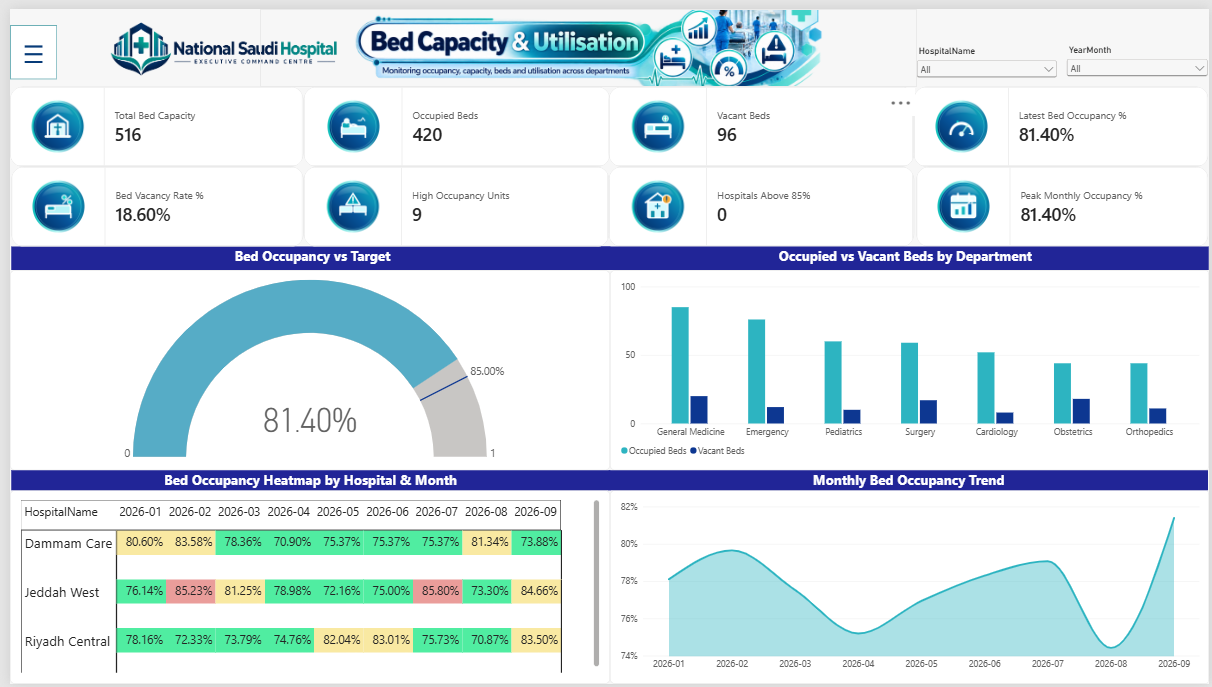

This screenshot's page, from the dashboard's own definition file:
{"tool":"powerbi","page":{"name":"Bed Capacity & Utilisatione","canvas":[1920,1080],"ordinal":3},"visuals":[{"type":"cardVisual","fields":{"Data":["tblBedCensus.Occupied Beds"]},"box":[469.8,123.1,490.3,128.6],"z":0},{"type":"cardVisual","fields":{"Data":["tblBedCensus.Vacant Beds"]},"box":[958.3,123.1,488.5,128.6],"z":1000},{"type":"cardVisual","fields":{"Data":["tblBedCensus.Hospitals Above 85%"]},"box":[958.3,251.7,488.5,128.6],"z":2000},{"type":"cardVisual","fields":{"Data":["tblBedCensus.Peak Monthly Occupancy %"]},"box":[1450.5,251.7,468,128.6],"z":3000},{"type":"cardVisual","fields":{"Data":["tblBedCensus.Latest Bed Occupancy %"]},"box":[1446.8,123.1,471.7,128.6],"z":4000},{"type":"cardVisual","title":"Monthly Patient Visits","fields":{"Data":["tblBedCensus.Total Bed Capacity"]},"box":[0,123.1,469.8,128.6],"z":5000},{"type":"image","box":[142.9,0,400,128],"z":6000},{"type":"slicer","fields":{"Values":["tblHospitals.HospitalName"]},"box":[1446.7,57.7,233.4,106.8],"z":7000},{"type":"slicer","fields":{"Values":["DimDate.YearMonth"]},"box":[1685,55.9,235.3,86.9],"z":8000},{"type":"gauge","fields":{"MaxValue":["tblBedCensus.Gauge Maximum"],"MinValue":["tblBedCensus.Gauge Minimum"],"TargetValue":["tblBedCensus.Bed Occupancy Target %"],"Y":["tblBedCensus.Latest Bed Occupancy %"]},"box":[0,418,960,320],"z":9000},{"type":"clusteredColumnChart","fields":{"Category":["tblDepartments.DepartmentName"],"Y":["tblBedCensus.Occupied Beds","tblBedCensus.Vacant Beds"]},"box":[960,418,960,320],"z":10000},{"type":"pivotTable","fields":{"Columns":["DimDate.YearMonth"],"Rows":["tblHospitals.HospitalName"],"Values":["tblBedCensus.Latest Bed Occupancy %"]},"box":[0,770,960.2,309.5],"z":11000},{"type":"areaChart","fields":{"Category":["DimDate.YearMonth"],"Y":["tblBedCensus.Latest Bed Occupancy %"]},"box":[960.2,770,960.2,309.5],"z":12000},{"type":"textbox","box":[1.9,380.3,958.3,37.3],"z":13000},{"type":"textbox","box":[945.3,380.3,973.2,37.3],"z":14000},{"type":"textbox","box":[1.9,738.3,958.3,31.7],"z":15000},{"type":"textbox","box":[958.3,738.3,960.2,31.7],"z":16000},{"type":"cardVisual","title":"Monthly Patient Visits","fields":{"Data":["tblBedCensus.High Occupancy Units"]},"box":[469.8,251.7,488.5,128.6],"z":17000},{"type":"cardVisual","title":"Monthly Patient Visits","fields":{"Data":["tblBedCensus.Bed Vacancy Rate %"]},"box":[1.9,251.7,468,128.6],"z":18000},{"type":"image","box":[400,0,1050,124],"z":19000},{"type":"shape","box":[0,26.6,75.5,86.5],"z":21000}]}

Visuals, with their boxes in screenshot pixels (x1, y1, x2, y2), scaled from the page's 1920x1080 canvas onto the 1212x687 screenshot:
cardVisual - tblBedCensus.Occupied Beds: l=297, t=78, r=606, b=160
cardVisual - tblBedCensus.Vacant Beds: l=605, t=78, r=913, b=160
cardVisual - tblBedCensus.Hospitals Above 85%: l=605, t=160, r=913, b=242
cardVisual - tblBedCensus.Peak Monthly Occupancy %: l=916, t=160, r=1211, b=242
cardVisual - tblBedCensus.Latest Bed Occupancy %: l=913, t=78, r=1211, b=160
"Monthly Patient Visits" cardVisual: l=0, t=78, r=297, b=160
image: l=90, t=0, r=343, b=81
slicer - tblHospitals.HospitalName: l=913, t=37, r=1061, b=105
slicer - DimDate.YearMonth: l=1064, t=36, r=1211, b=91
gauge - tblBedCensus.Gauge Maximum x tblBedCensus.Gauge Minimum: l=0, t=266, r=606, b=469
clusteredColumnChart - tblDepartments.DepartmentName x tblBedCensus.Occupied Beds: l=606, t=266, r=1211, b=469
pivotTable - DimDate.YearMonth x tblHospitals.HospitalName: l=0, t=490, r=606, b=686
areaChart - DimDate.YearMonth x tblBedCensus.Latest Bed Occupancy %: l=606, t=490, r=1211, b=686
textbox: l=1, t=242, r=606, b=266
textbox: l=597, t=242, r=1211, b=266
textbox: l=1, t=470, r=606, b=490
textbox: l=605, t=470, r=1211, b=490
"Monthly Patient Visits" cardVisual: l=297, t=160, r=605, b=242
"Monthly Patient Visits" cardVisual: l=1, t=160, r=297, b=242
image: l=252, t=0, r=915, b=79
shape: l=0, t=17, r=48, b=72
